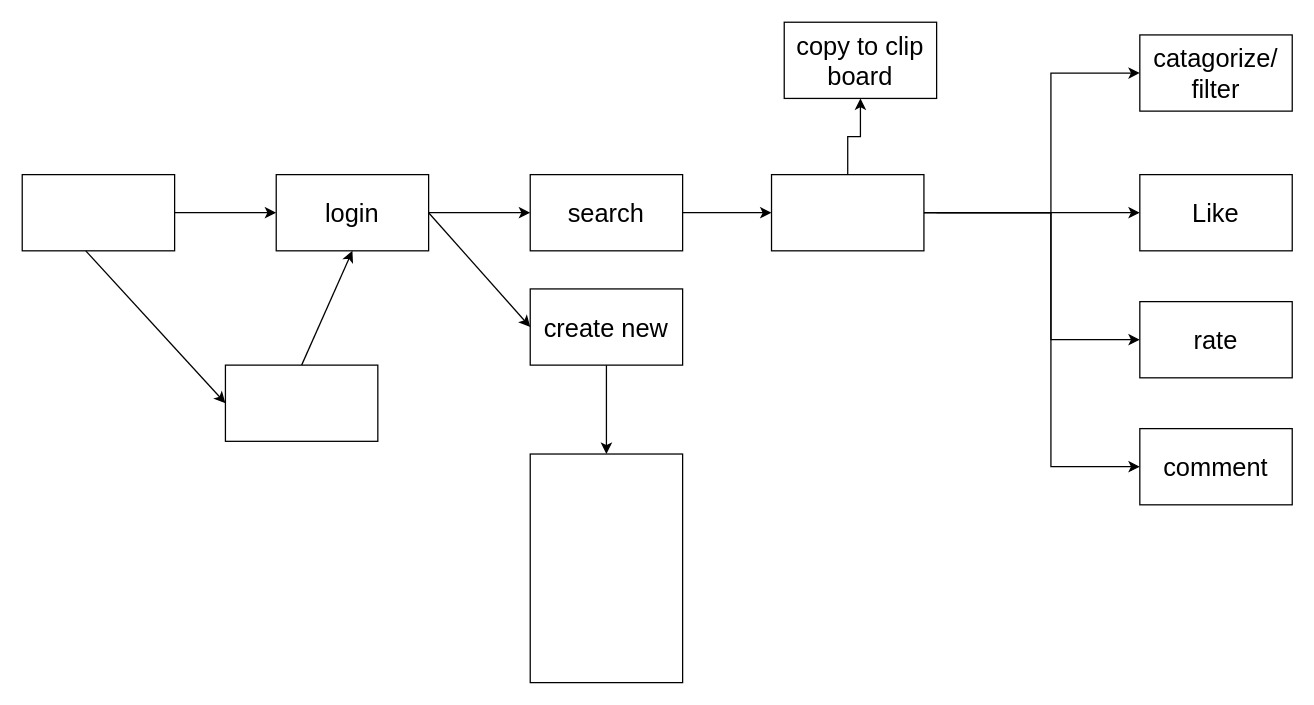
This 1314x705 diagram has some shape labels left out. Each missing label, with the box of its shape:
register: (224, 364, 378, 441)
show result: (770, 173, 924, 251)
Title, Link, description,: (529, 453, 683, 683)
user: (21, 173, 175, 251)
